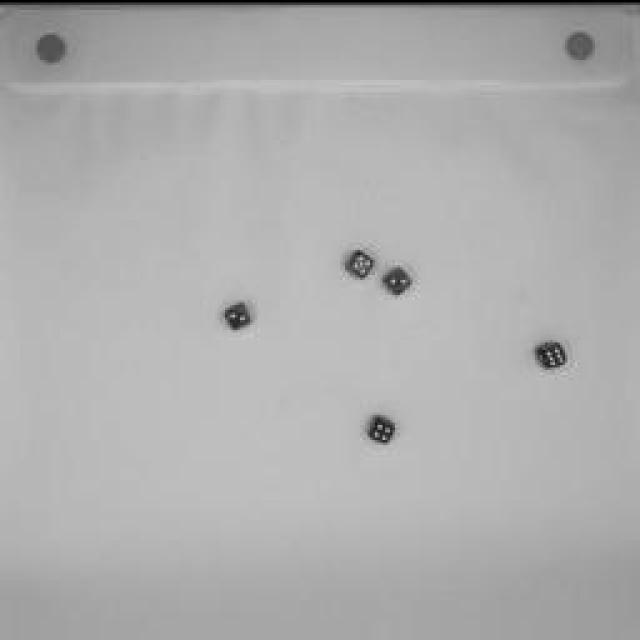dice_2: (380, 258, 418, 298), (220, 294, 255, 328)
dice_4: (365, 410, 403, 448)
dice_5: (339, 240, 381, 280)
dice_6: (530, 332, 572, 372)
